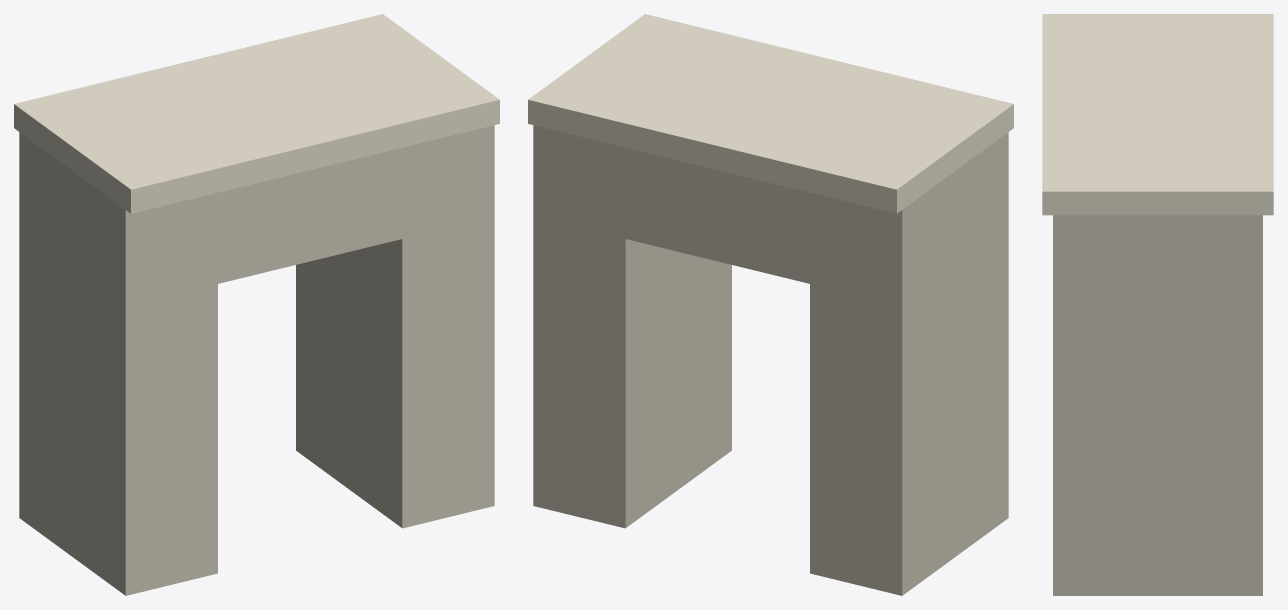
Rendered from lintel-gateway.glb.
3 views of the same model, side by side, from view 1: azimuth 30°, elevation 25°; view 2: azimuth 150°, elevation 25°; view 3: azimuth 270°, elevation 25° (orthographic).
Visible parts, largest first — view 1: lintel-gateway; view 2: lintel-gateway; view 3: lintel-gateway.
Boxes of the visible parts, bbox=[...] form: lintel-gateway: bbox=[14, 14, 499, 595]; lintel-gateway: bbox=[528, 14, 1013, 595]; lintel-gateway: bbox=[1042, 14, 1273, 595].
Size of the model in its own units: 4 by 4.25 by 2.2.
